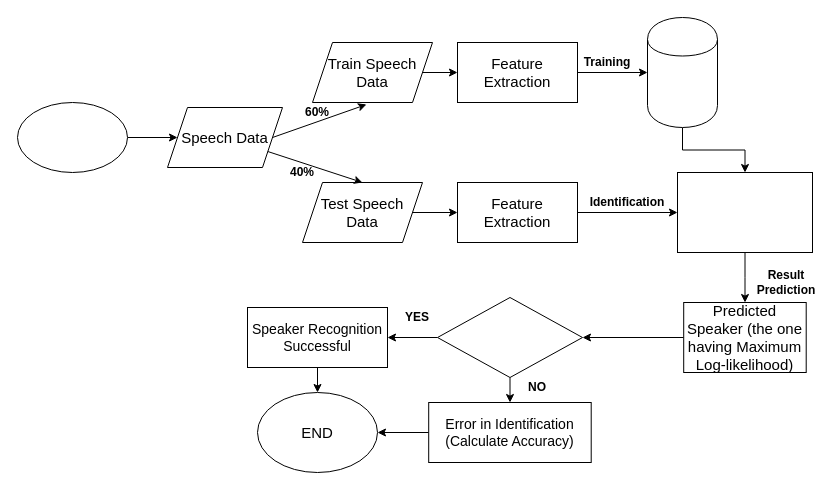
Some shapes in this 833 by 490 pixel diagram are drawn without their labels. Here are the shapes that lost their labels. From the top down, the centre of each, then its label:
At point (682, 72): "Speaker Database".
At point (72, 137): "START".
At point (744, 212): "Matching with Speaker Database using Log-likelihood".
At point (509, 337): "Speaker Detection Successfull".
